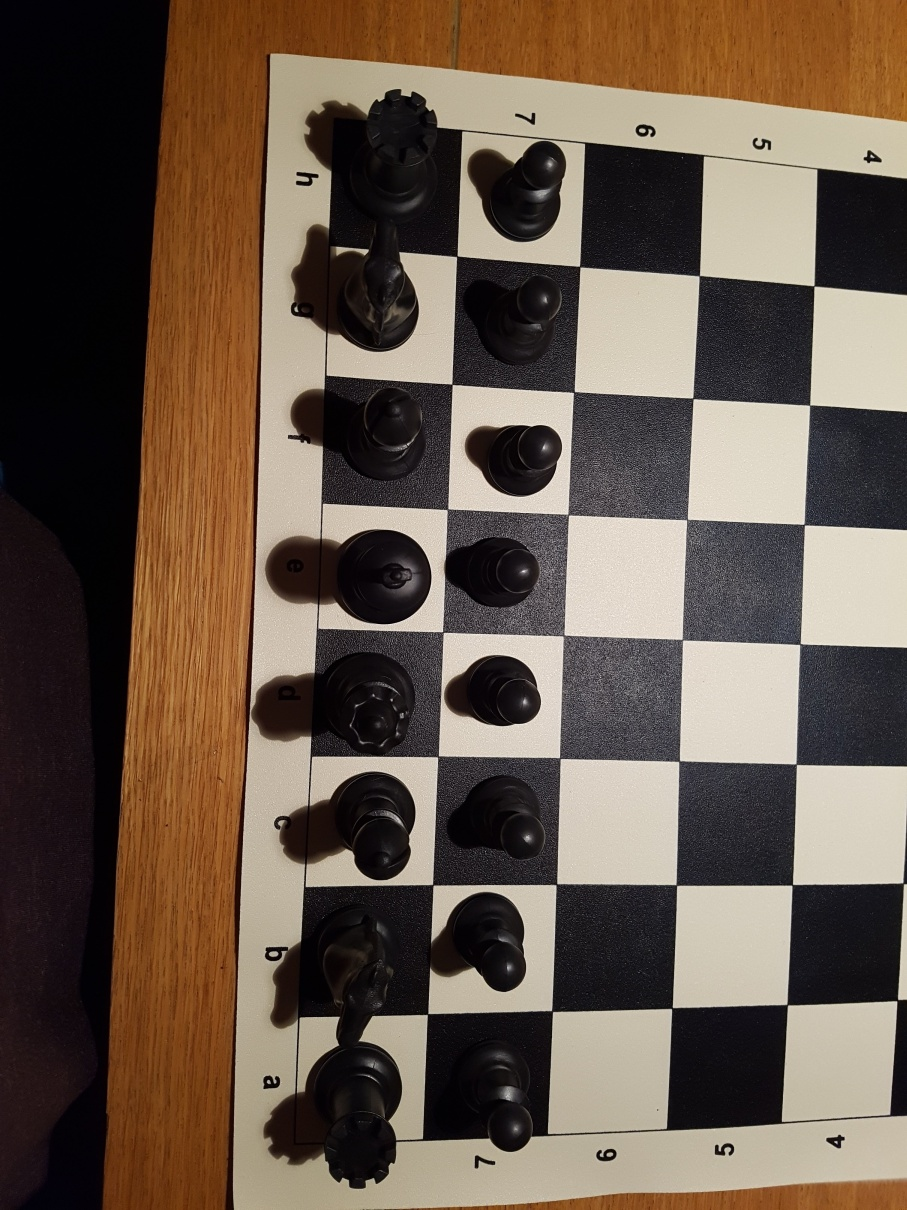chess_bishop: (334, 770, 414, 881), (344, 384, 429, 483)
chess_king: (331, 528, 437, 630)
chess_knight: (339, 227, 425, 355), (325, 901, 399, 1047)
chess_pawn: (462, 1039, 541, 1148), (482, 141, 567, 240), (452, 892, 528, 987), (486, 283, 567, 369), (468, 776, 545, 860), (481, 423, 564, 496), (467, 655, 543, 727), (467, 536, 540, 606)
chess_queen: (327, 649, 417, 755)
chess_rook: (308, 1046, 407, 1192), (355, 90, 443, 219)
